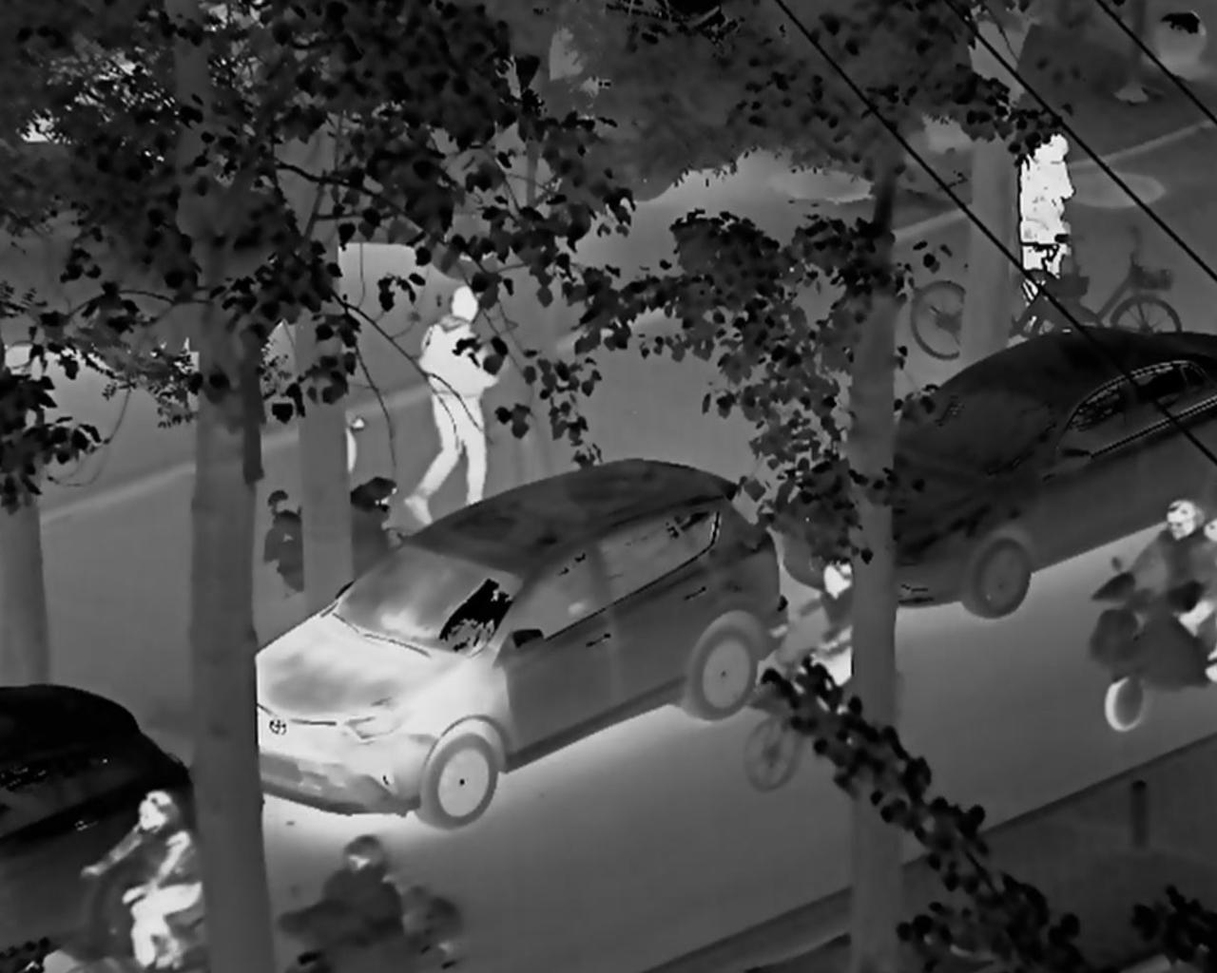person: (402, 282, 510, 534), (82, 789, 210, 973), (1117, 493, 1217, 675), (1020, 128, 1075, 299)
